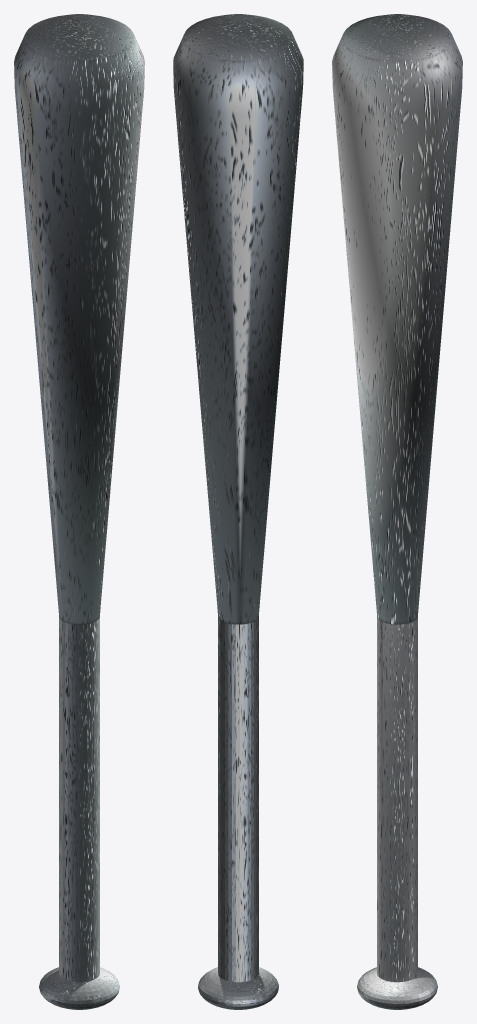
File: ボロボロバット.fbx
3 renders of one model, left to right at view 1: azimuth 90°, elevation 25°; view 2: azimuth 150°, elevation 25°; view 3: azimuth 270°, elevation 25°, orthographic.
Parts seen in each view (by area): view 1: 先, グリップ, グリップエンド; view 2: 先, グリップ, グリップエンド; view 3: 先, グリップ, グリップエンド.
Part boxes in pixels (x1=…): 先: x1=14, y1=14, x2=144, y2=624; グリップ: x1=59, y1=616, x2=99, y2=982; グリップエンド: x1=39, y1=967, x2=119, y2=1009; 先: x1=173, y1=14, x2=303, y2=624; グリップ: x1=218, y1=616, x2=258, y2=982; グリップエンド: x1=198, y1=967, x2=278, y2=1009; 先: x1=332, y1=14, x2=462, y2=624; グリップ: x1=377, y1=616, x2=417, y2=982; グリップエンド: x1=357, y1=967, x2=437, y2=1009.
Size of the model in its own units: 168 by 1383 by 168.
1 material, 1 textured.
